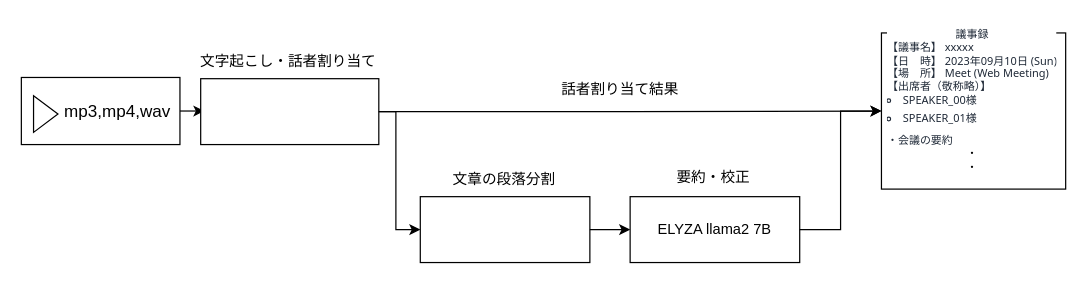
Image size: 1087x284. Some labels were removed from this diagram. Here are the shapes that lost their labels. From the top down, the centre of each, then its label:
point (289, 111): whisperX
point (504, 229): Sentence transformer
